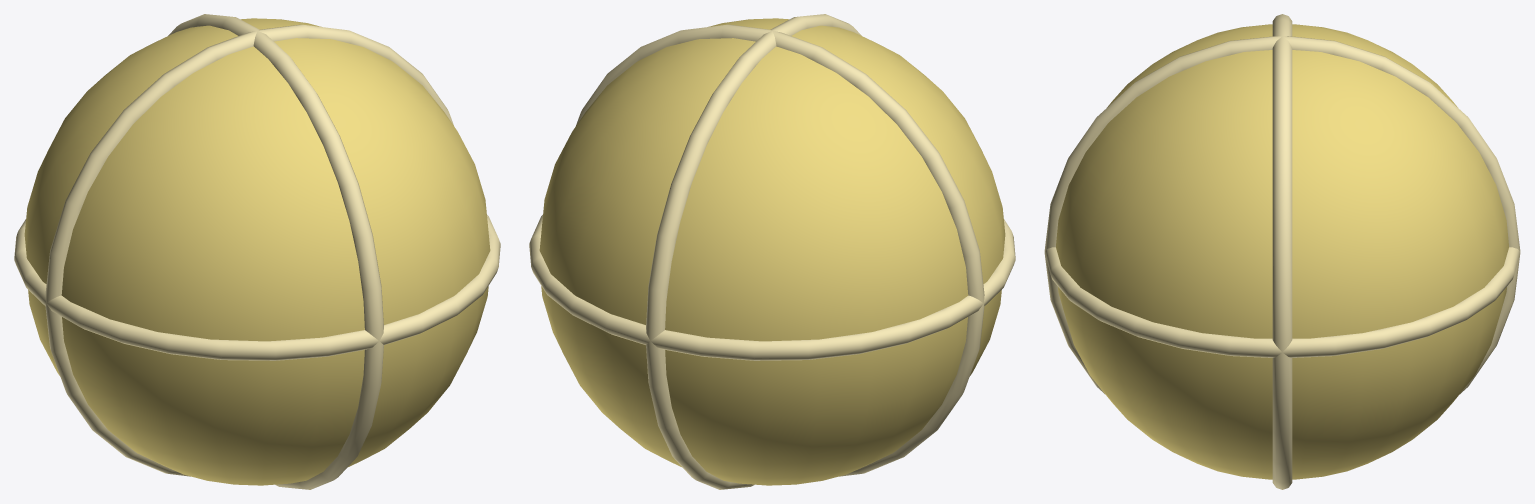
The model's file is VM-ACC-EXT138.glb.
3 renders of one model, left to right at view 1: azimuth 30°, elevation 25°; view 2: azimuth 150°, elevation 25°; view 3: azimuth 270°, elevation 25°, orthographic. The views are drawn at different scales.
Parts seen in each view (by area): view 1: Pelota de Béisbol; view 2: Pelota de Béisbol; view 3: Pelota de Béisbol.
Boxes of the visible parts, x1,y1,x2,y2 form: Pelota de Béisbol: (14, 14, 500, 489); Pelota de Béisbol: (529, 14, 1015, 489); Pelota de Béisbol: (1044, 14, 1520, 489).
Size of the model in its own units: 0.2405 by 0.2405 by 0.2405.
